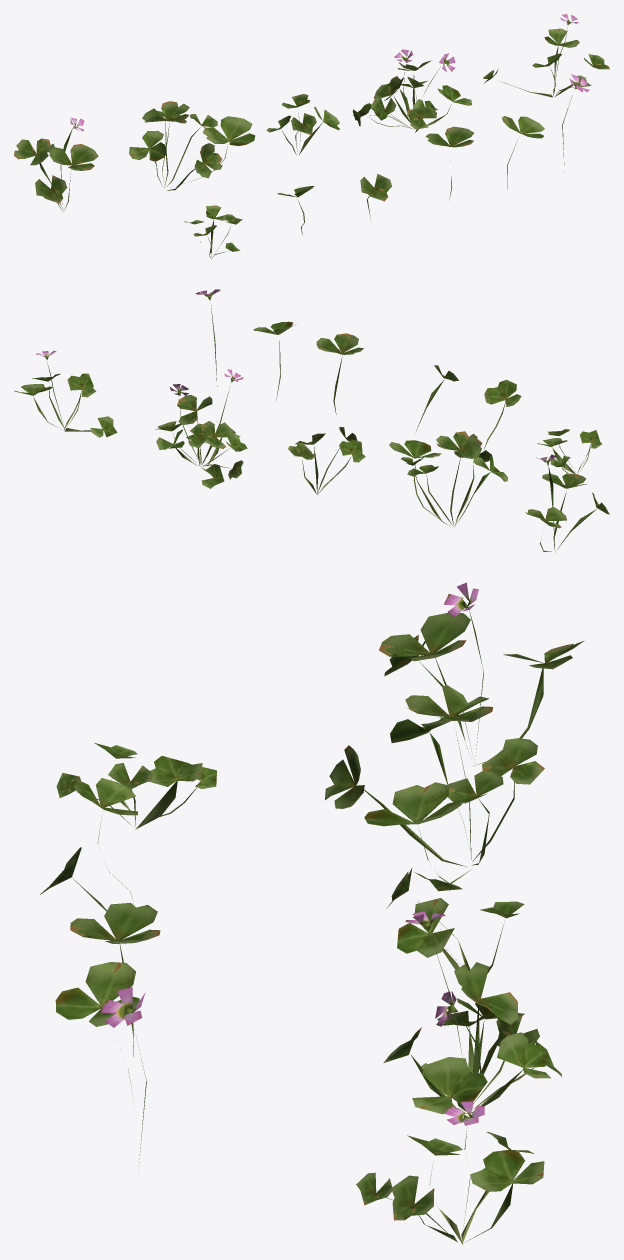
File: shrub_sorrel_01.glb
The picture shows the model from 3 angles, top to bottom: view 1: azimuth 30°, elevation 25°; view 2: azimuth 150°, elevation 25°; view 3: azimuth 270°, elevation 25°; orthographic projection. The views are drawn at different scales.
Visible parts, largest first — view 1: shrub_sorrel_01_k; view 2: shrub_sorrel_01_k; view 3: shrub_sorrel_01_k.
Part boxes in pixels (x1,y1,x2,y2): shrub_sorrel_01_k: (14, 14, 609, 258); shrub_sorrel_01_k: (14, 289, 609, 552); shrub_sorrel_01_k: (40, 582, 584, 1244).
Bounding box in the file's own units: 0.352 × 0.058 × 0.1464.
Materials: 1 (1 with a texture image).
